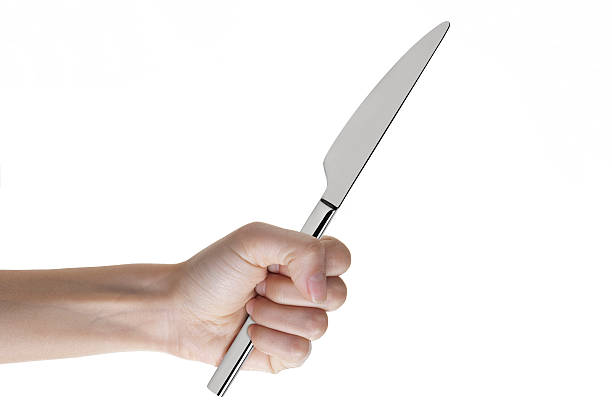knife: (207, 23, 453, 398)
